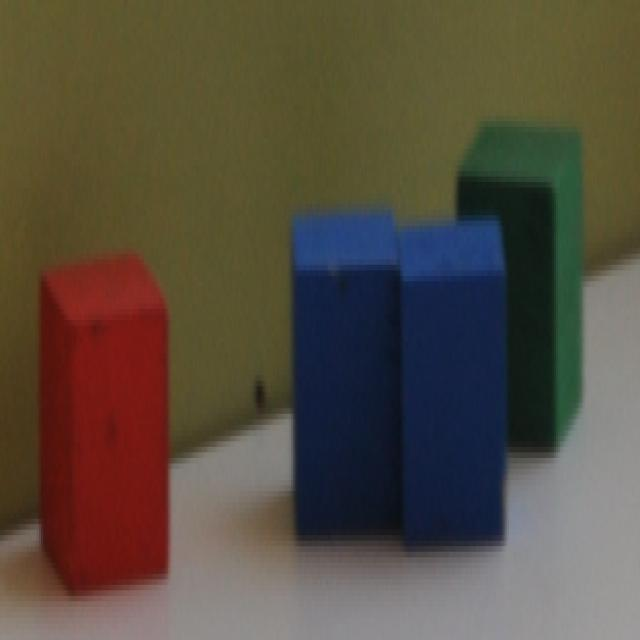bluecube: (292, 207, 401, 535), (398, 213, 503, 552)
green cube: (458, 104, 585, 457)
red cube: (42, 246, 168, 609)
